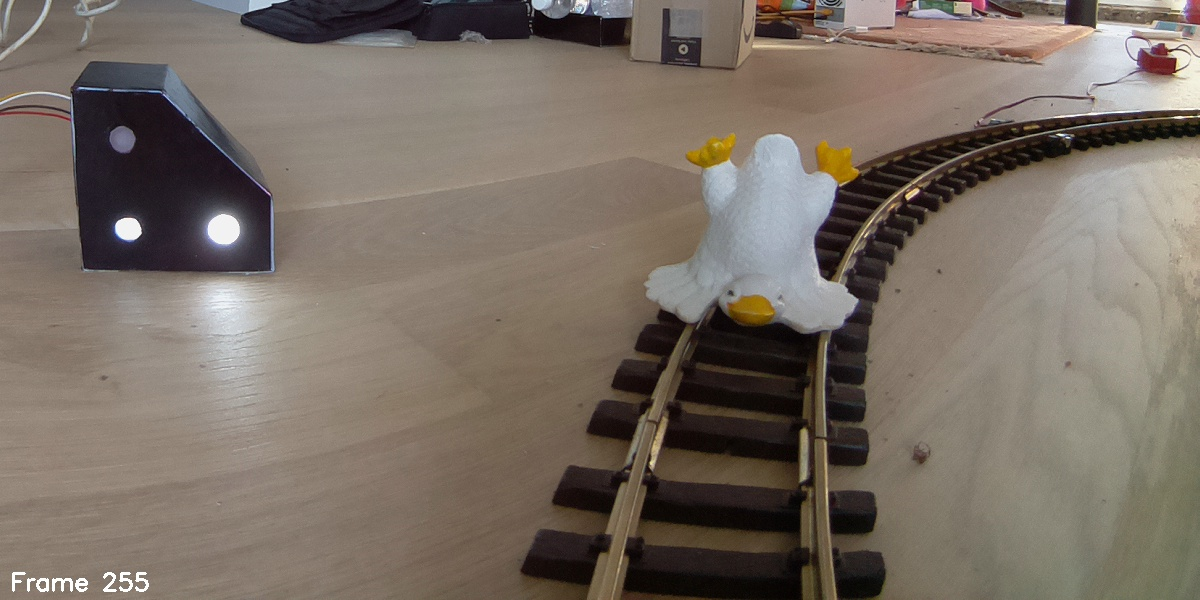Halt: (74, 59, 272, 270)
